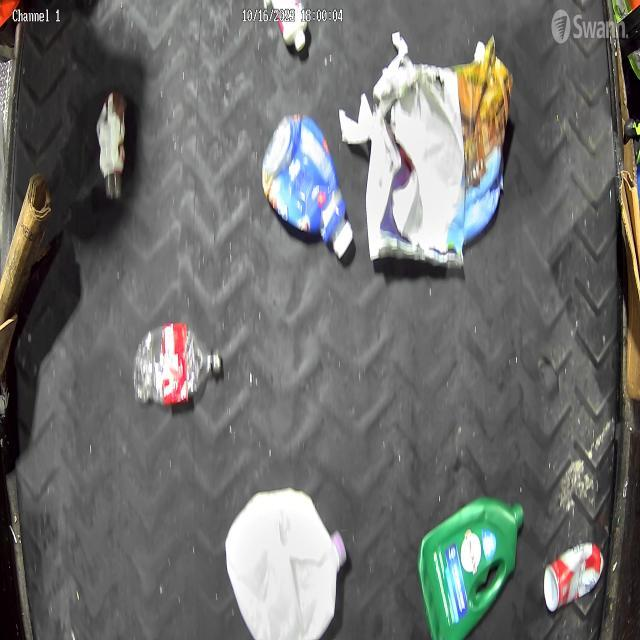can: (544, 541, 604, 614)
milk_jug: (225, 488, 347, 640)
non_white_jug: (418, 495, 524, 640), (262, 114, 354, 258)
plastic_bottle: (133, 323, 222, 406)
